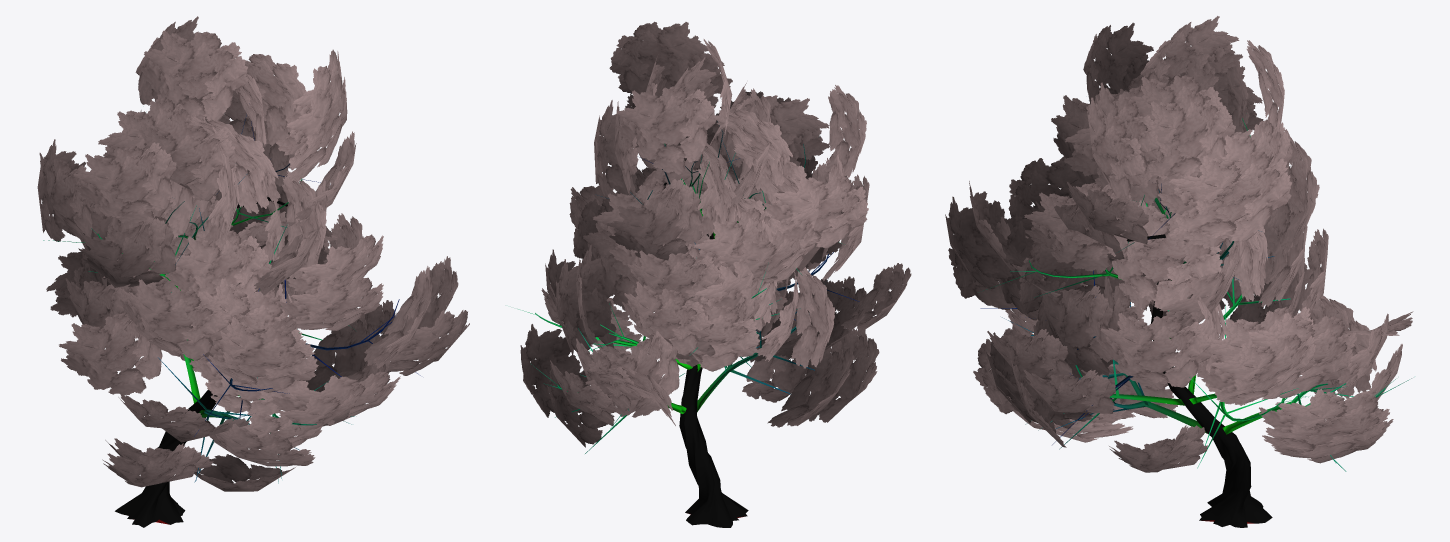
The model's file is redhills_beautytree.fbx.
3 views of the same model, side by side, from view 1: azimuth 30°, elevation 25°; view 2: azimuth 150°, elevation 25°; view 3: azimuth 270°, elevation 25° (orthographic). The views are drawn at different scales.
Visible parts, largest first — view 1: Tree_2, Tree_0; view 2: Tree_2, Tree_0; view 3: Tree_2, Tree_0.
Boxes of the visible parts, bbox=[...] form: Tree_2: bbox=[37, 16, 469, 491]; Tree_0: bbox=[43, 115, 420, 527]; Tree_2: bbox=[520, 21, 911, 447]; Tree_0: bbox=[518, 121, 859, 527]; Tree_2: bbox=[945, 16, 1413, 472]; Tree_0: bbox=[980, 118, 1411, 527].
Bounding box in the file's own units: 2548 × 3351 × 2845.
Materials: 1 (1 with a texture image).
